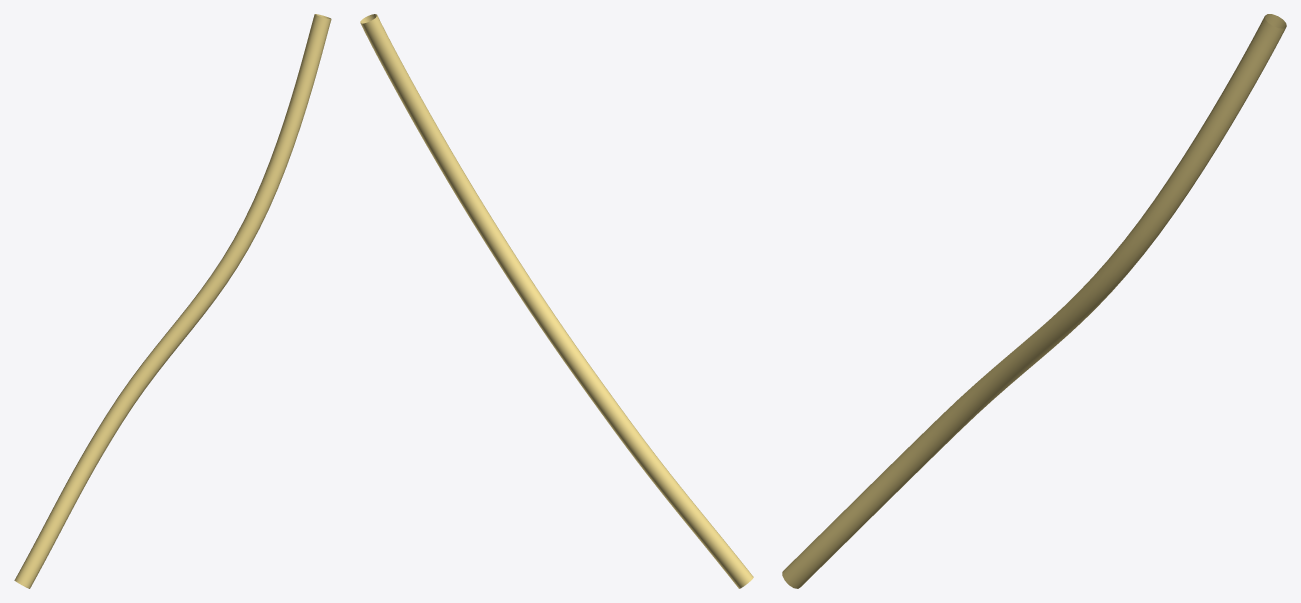
3 renders of one model, left to right at view 1: azimuth 30°, elevation 25°; view 2: azimuth 150°, elevation 25°; view 3: azimuth 330°, elevation 25°, orthographic. The views are drawn at different scales.
Visible parts, largest first — view 1: ZA_44f29f15add51764; view 2: ZA_44f29f15add51764; view 3: ZA_44f29f15add51764.
Part boxes in pixels (<box>): ZA_44f29f15add51764: <box>14,14,331,588</box>; ZA_44f29f15add51764: <box>360,14,753,588</box>; ZA_44f29f15add51764: <box>782,14,1286,588</box>.
Bounding box in the file's own units: 0.0221 × 0.0296 × 0.00396.
